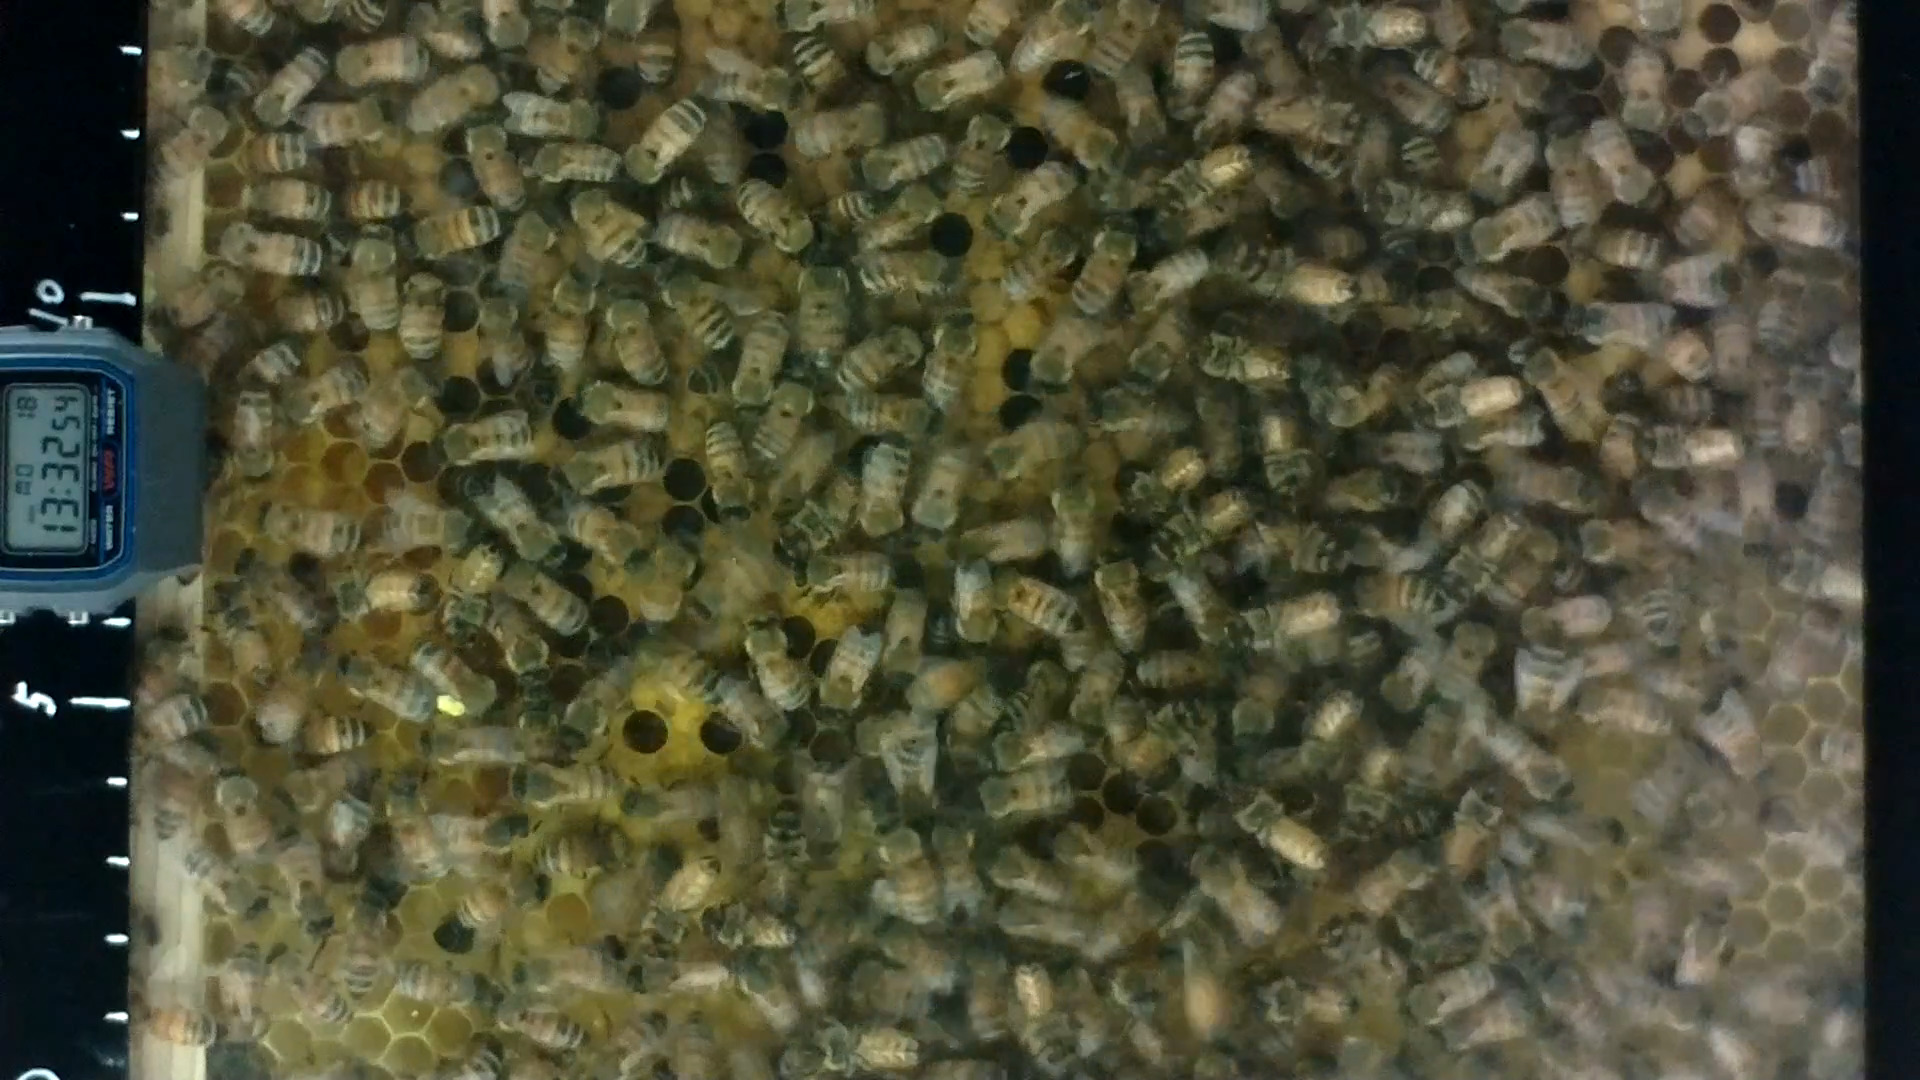hati: (264, 935, 352, 1030), (430, 401, 545, 473), (1542, 115, 1602, 240), (338, 647, 438, 723), (211, 223, 327, 287), (1741, 193, 1849, 261), (876, 820, 940, 930), (998, 574, 1091, 650), (257, 496, 368, 559), (560, 436, 669, 501), (506, 757, 626, 815), (1095, 550, 1154, 661), (475, 287, 538, 390), (484, 988, 591, 1048), (698, 62, 806, 120), (919, 311, 984, 407), (626, 96, 699, 182), (375, 495, 468, 560), (695, 415, 752, 524), (545, 261, 599, 375), (953, 104, 1013, 207), (746, 616, 810, 712), (210, 766, 273, 862), (1129, 247, 1211, 319), (858, 433, 914, 539), (990, 417, 1080, 483), (822, 624, 884, 719), (737, 175, 811, 255), (1569, 301, 1680, 353), (604, 289, 665, 385), (538, 825, 641, 882), (657, 211, 742, 278), (735, 309, 791, 409), (407, 204, 500, 265), (1002, 227, 1077, 301), (1472, 196, 1549, 266), (396, 266, 448, 369), (348, 225, 396, 338), (799, 262, 844, 377), (977, 767, 1071, 822), (1499, 18, 1586, 76), (287, 363, 375, 419), (335, 34, 426, 88), (498, 94, 607, 138), (572, 381, 671, 430), (856, 249, 949, 301), (345, 887, 388, 997), (1619, 49, 1668, 142), (237, 177, 335, 219), (796, 108, 885, 154), (525, 144, 621, 186), (862, 26, 944, 70)
